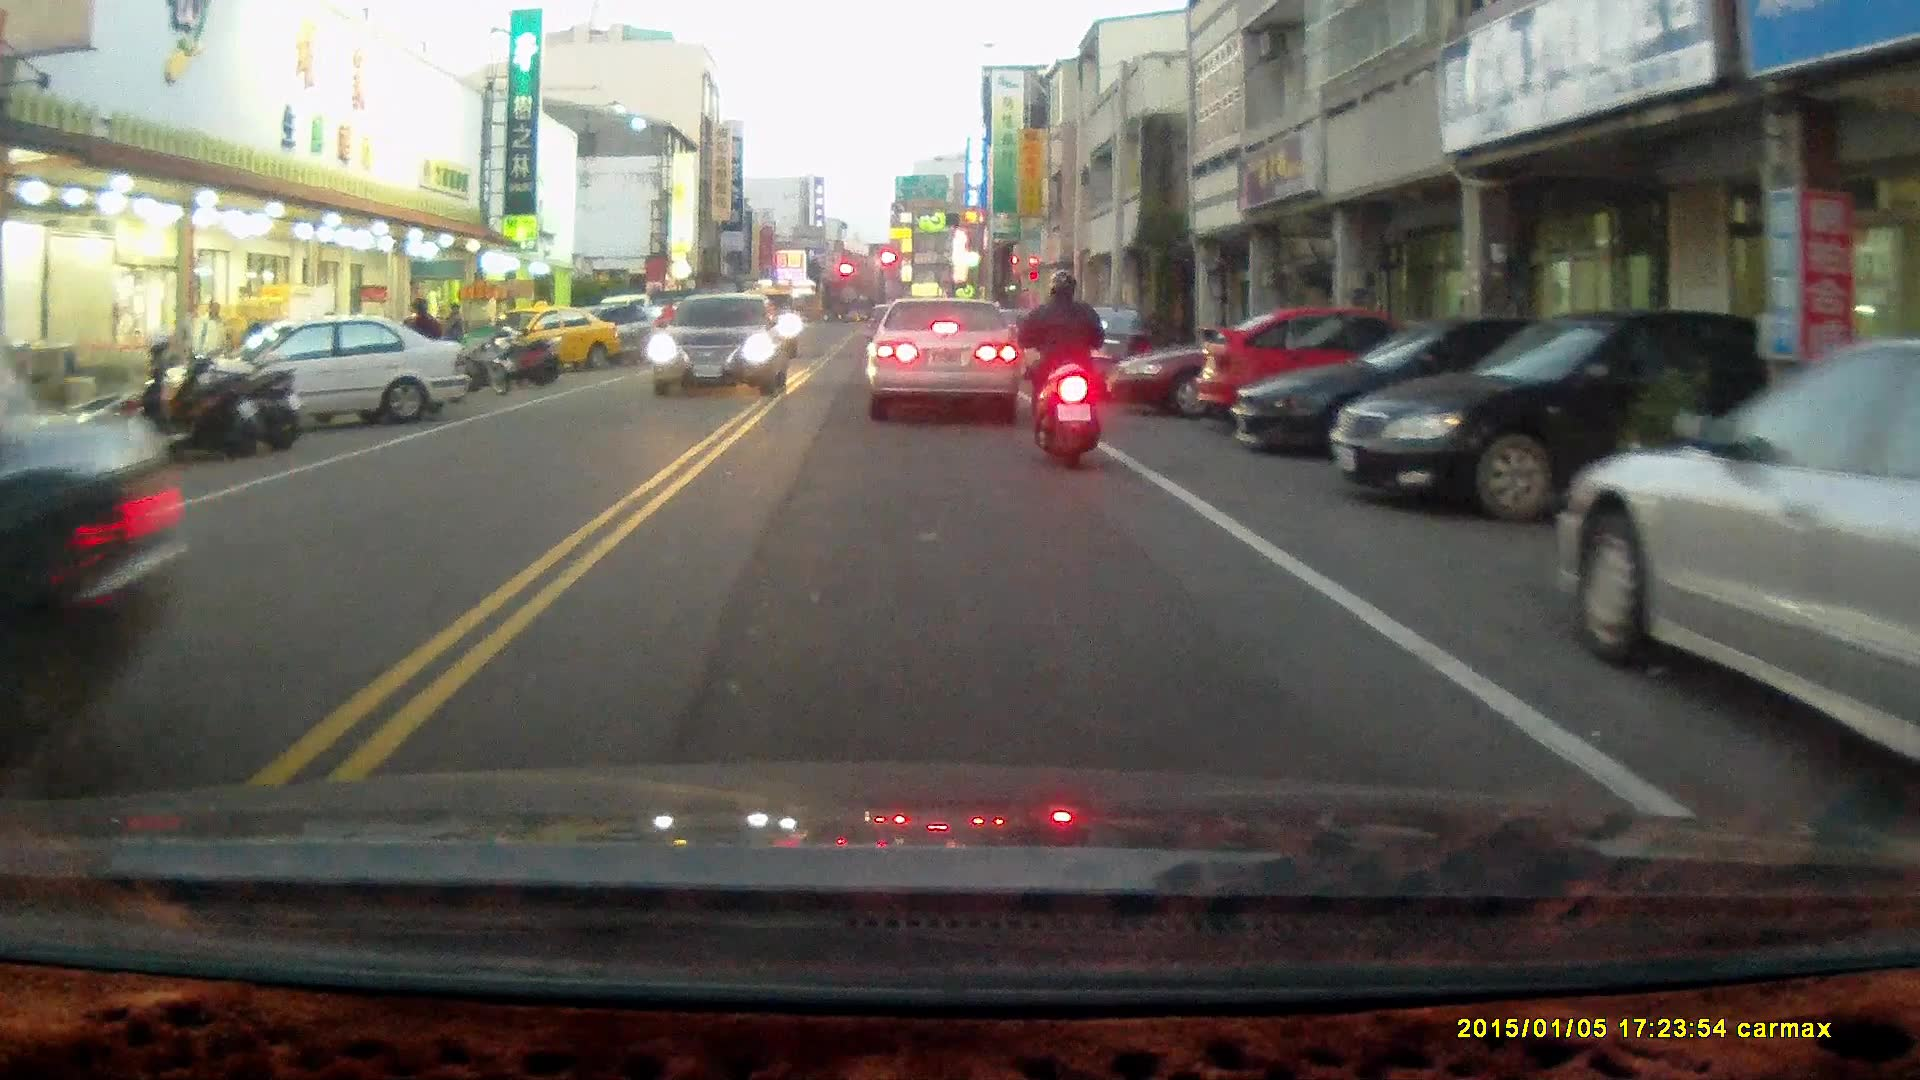pedestrian: (409, 295, 444, 389), (197, 299, 230, 395)
rider: (1014, 266, 1106, 472), (644, 295, 681, 369)
vehicle: (1560, 332, 1920, 820), (1329, 305, 1775, 523), (1, 352, 194, 795), (1234, 308, 1629, 460), (202, 307, 467, 435), (1193, 302, 1451, 433), (1110, 305, 1418, 412), (867, 295, 1025, 425), (652, 287, 791, 399), (506, 305, 628, 379)
